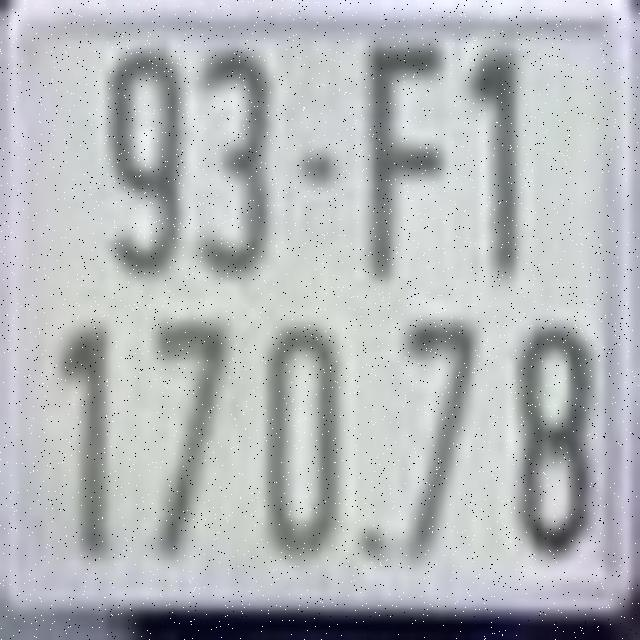0: (259, 316, 345, 559)
1: (54, 318, 119, 559), (468, 41, 528, 280)
3: (194, 44, 272, 276)
7: (147, 312, 231, 559), (399, 312, 478, 563)
8: (515, 321, 594, 557)
9: (104, 42, 184, 276)
F: (364, 41, 449, 278)
